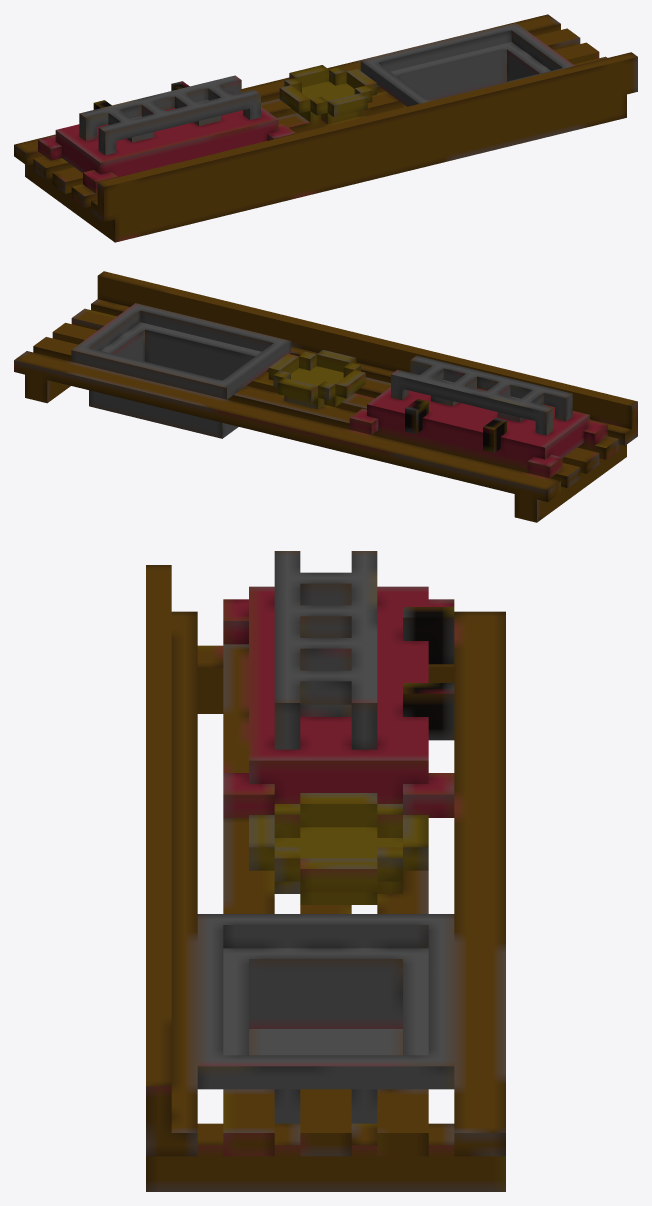
File: Prateleira2.fbx
The picture shows the model from 3 angles, top to bottom: view 1: azimuth 30°, elevation 25°; view 2: azimuth 150°, elevation 25°; view 3: azimuth 270°, elevation 25°; orthographic projection. The views are drawn at different scales.
Parts seen in each view (by area): view 1: Prateleira2; view 2: Prateleira2; view 3: Prateleira2.
Boxes of the visible parts, x1,y1,x2,y2 form: Prateleira2: [14, 14, 637, 242]; Prateleira2: [14, 271, 637, 522]; Prateleira2: [146, 551, 505, 1191].
Size of the model in its own units: 480 by 90 by 140.
